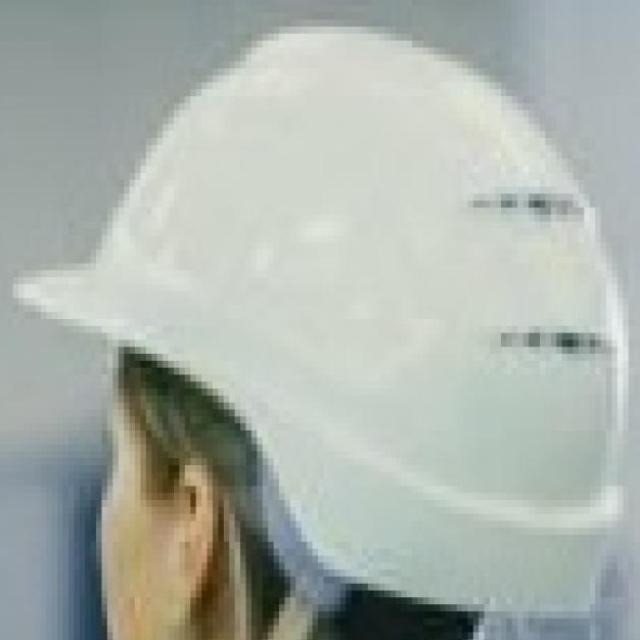helmet: (0, 20, 640, 618)
